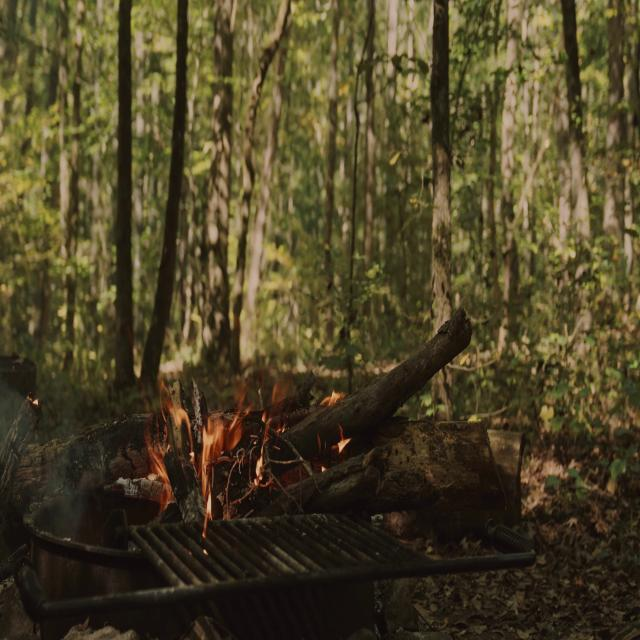Fire: (148, 368, 270, 536)
